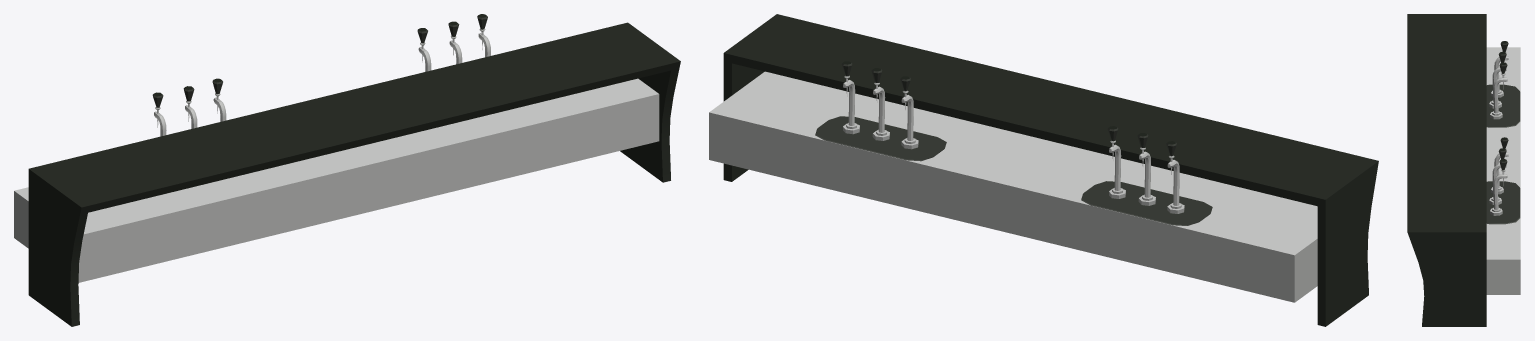
The model's file is Bar_Black.glb.
The picture shows the model from 3 angles, left to right: view 1: azimuth 30°, elevation 25°; view 2: azimuth 150°, elevation 25°; view 3: azimuth 270°, elevation 25°; orthographic projection. The views are drawn at different scales.
Visible parts, largest first — view 1: bar; view 2: bar; view 3: bar.
Boxes of the visible parts, left/top/right/bottom form: bar: left=14, top=14, right=680, bottom=326; bar: left=709, top=14, right=1378, bottom=326; bar: left=1407, top=14, right=1520, bottom=326.
Size of what is drawn, in the model's own units: 6.13 by 1.54 by 1.34.
Materials: 1 (1 with a texture image).
